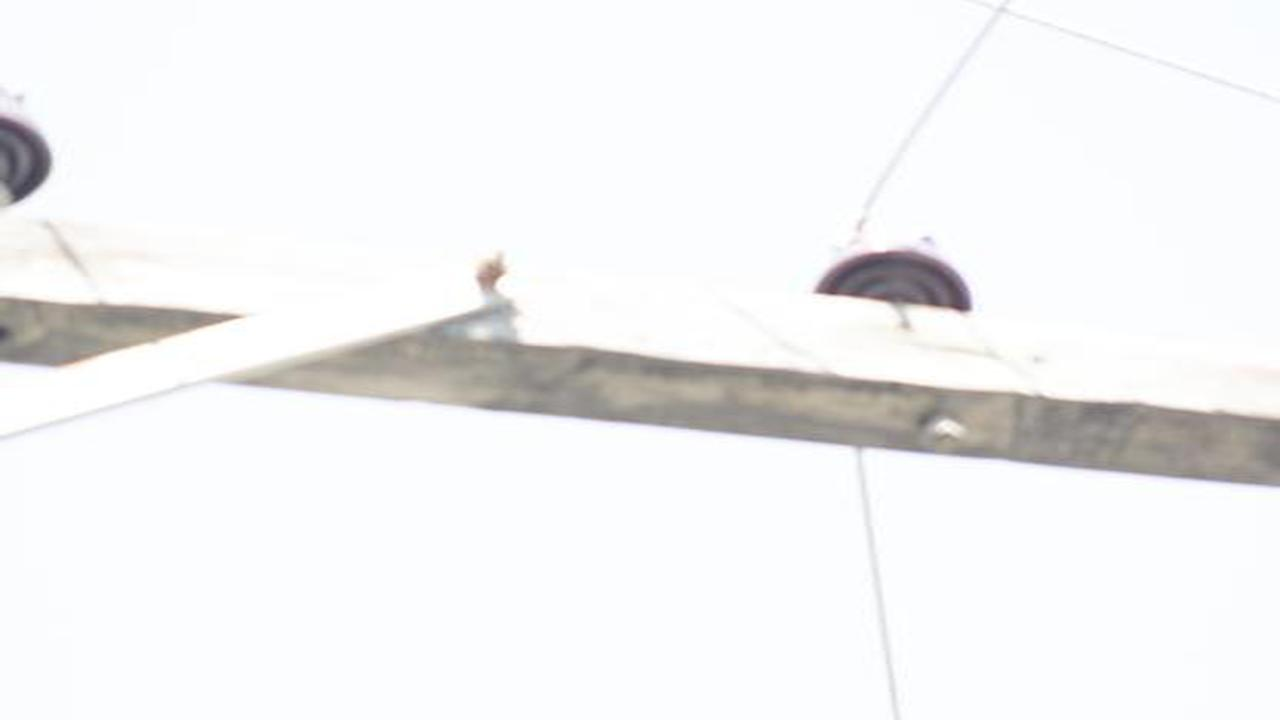insulator_pin: (816, 227, 975, 318)
